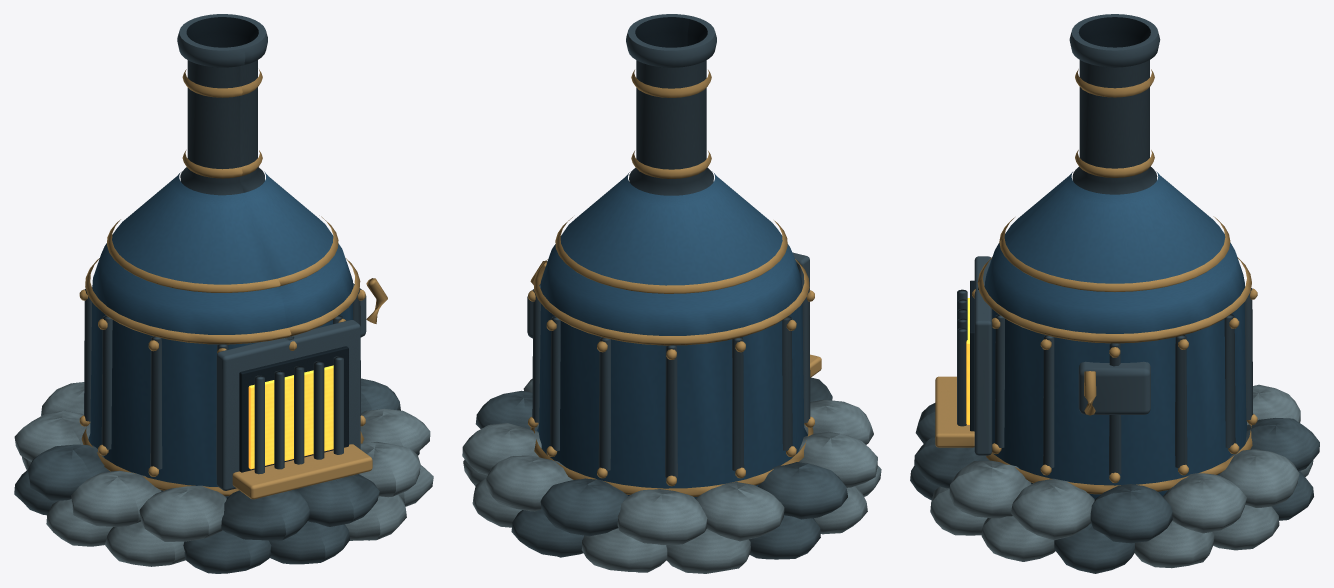
File: furnace.glb
3 renders of one model, left to right at view 1: azimuth 30°, elevation 25°; view 2: azimuth 150°, elevation 25°; view 3: azimuth 270°, elevation 25°, orthographic.
Visible parts, largest first — view 1: furnace; view 2: furnace; view 3: furnace.
Boxes of the visible parts, x1,y1,x2,y2 form: furnace: (14,14,433,573); furnace: (462,14,881,573); furnace: (910,14,1319,573).
Bounding box in the file's own units: 2.03 × 2.49 × 1.99.
7 materials, 7 textured.
